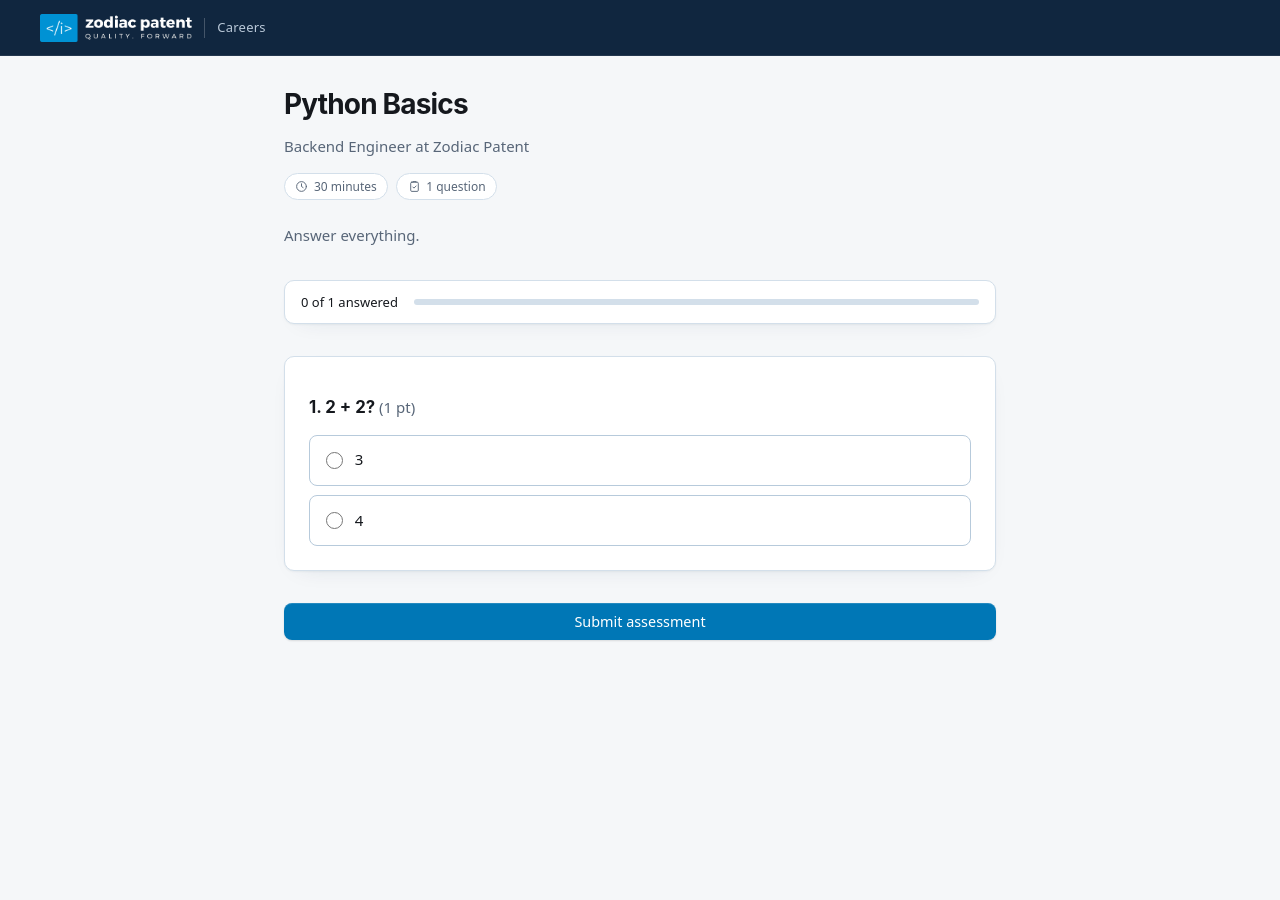
Test case: AssessmentTakingPage monitoring consent › shows a polished success screen with no score after submission
Expected: the text "1. 2 + 2?" is shown, [309,397,375,417]
What coordinates should you click on to do the following:
click the radio button labelled "4"
I would click on:
 (334, 520)
Its box is [326,512,343,529].
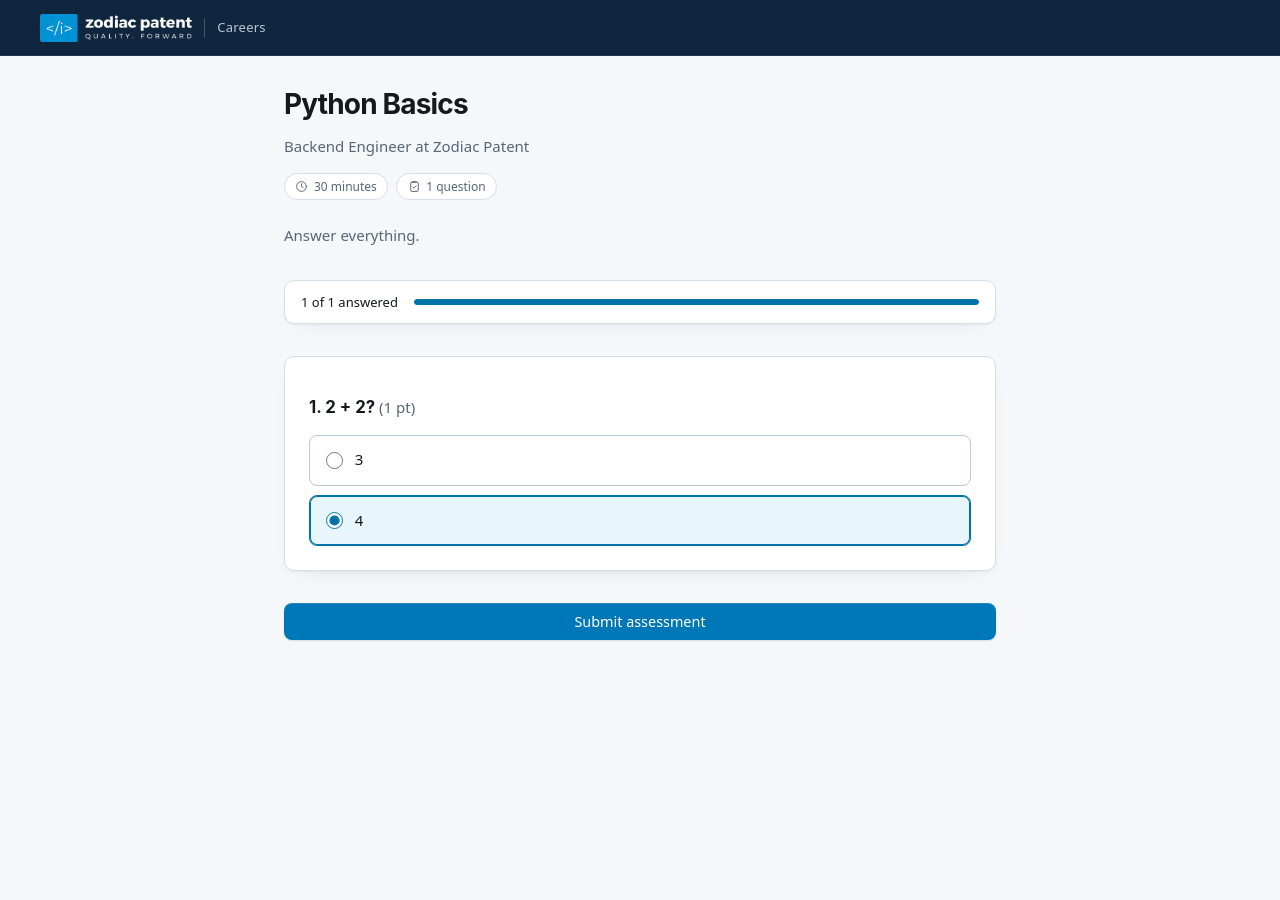
What coordinates should you click on to do the following:
click the button "Submit assessment"
I would click on:
 (640, 622)
Its box is [284,603,996,640].
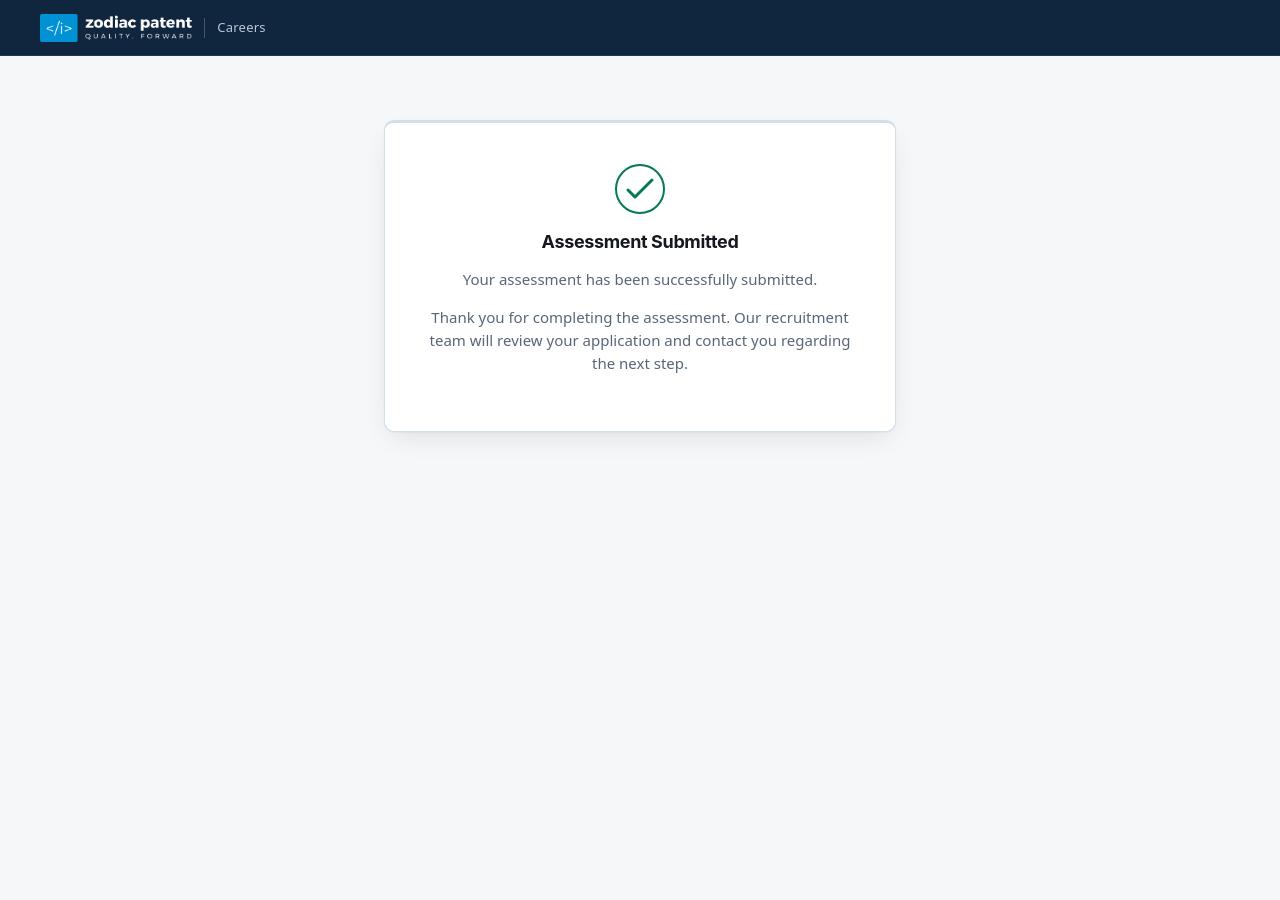
Now the heading "Assessment Submitted" is shown, box [542,231,738,252]
